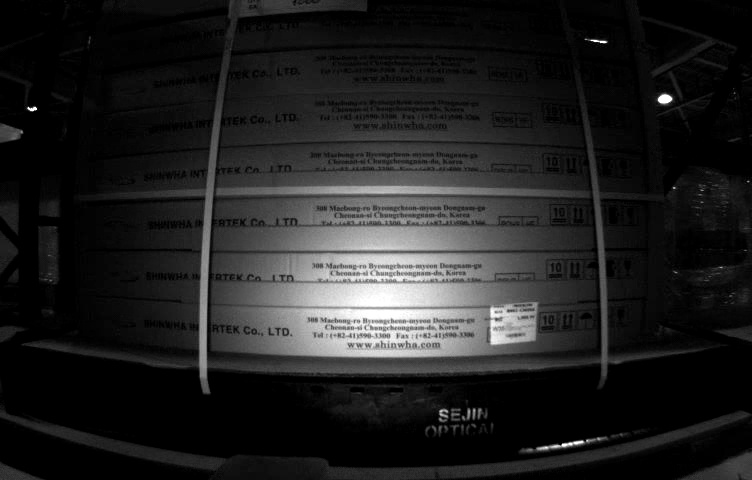True Barcode: (490, 302, 537, 344)
